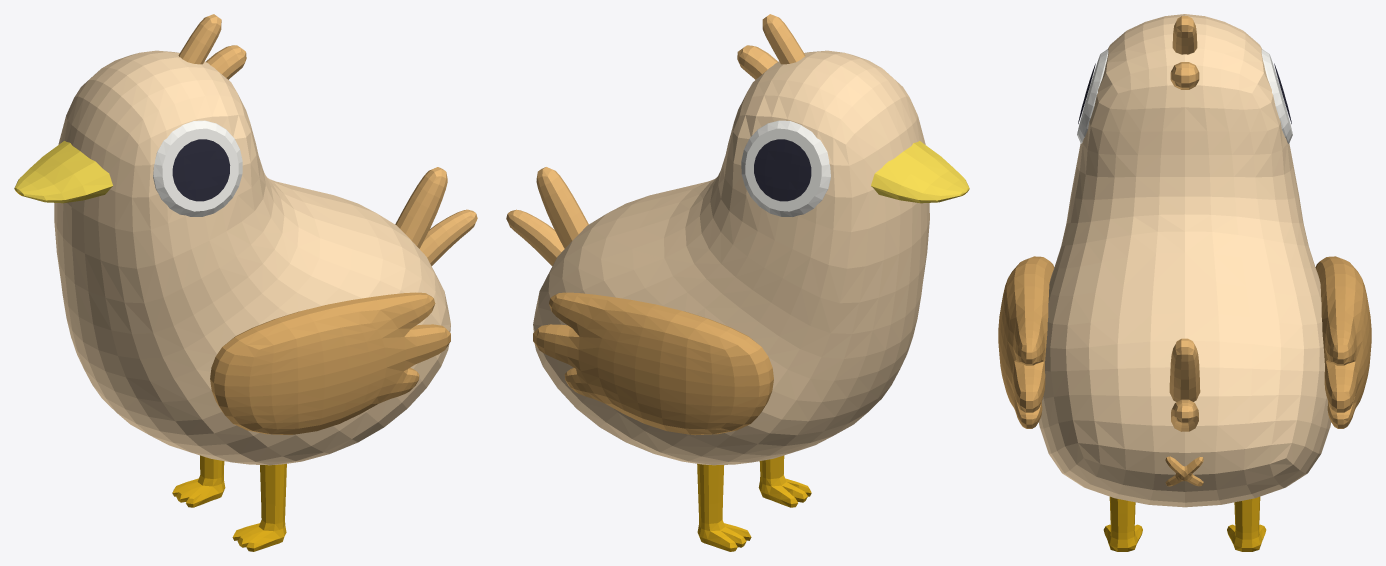
The model's file is Duck_LOD0.fbx.
3 views of the same model, side by side, from view 1: azimuth 30°, elevation 25°; view 2: azimuth 150°, elevation 25°; view 3: azimuth 270°, elevation 25° (orthographic).
Parts seen in each view (by area): view 1: Mesh; view 2: Mesh; view 3: Mesh.
Part boxes in pixels (left/top/right/bottom): Mesh: left=14, top=14, right=477, bottom=551; Mesh: left=506, top=14, right=969, bottom=551; Mesh: left=998, top=14, right=1371, bottom=551.
Size of the model in its own units: 175 by 186 by 121.
1 material, 1 textured.
